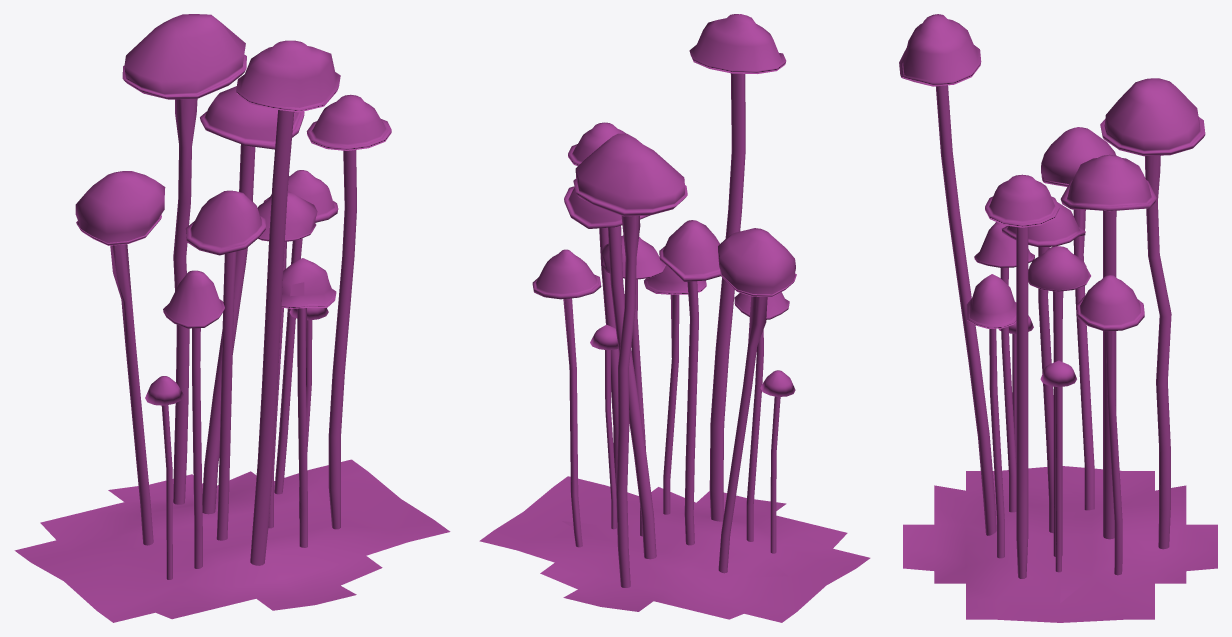
Rendered from shroom22.fbx.
3 renders of one model, left to right at view 1: azimuth 30°, elevation 25°; view 2: azimuth 150°, elevation 25°; view 3: azimuth 270°, elevation 25°, orthographic. The views are drawn at different scales.
Parts seen in each view (by area): view 1: shroom2a; view 2: shroom2a; view 3: shroom2a.
Part boxes in pixels (x1,y1,x2,y2): shroom2a: (14,14,450,622); shroom2a: (479,14,870,622); shroom2a: (899,14,1217,622).
Size of the model in its own units: 0.8106 by 1.29 by 0.6948.
